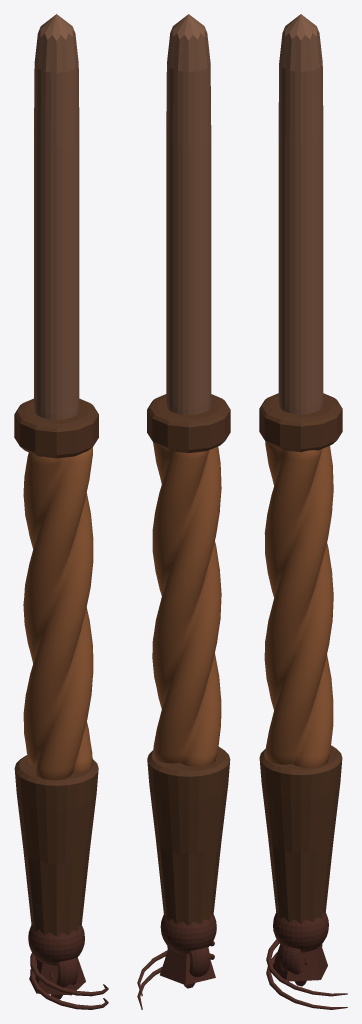
The model's file is Wand 819.glb.
3 renders of one model, left to right at view 1: azimuth 30°, elevation 25°; view 2: azimuth 210°, elevation 25°; view 3: azimuth 330°, elevation 25°, orthographic.
Parts seen in each view (by area): view 1: GeneratedWand, Pommel_4, Pommel_9, Pommel_2, Pommel_10; view 2: GeneratedWand, Pommel_4, Pommel_9, Pommel_2; view 3: GeneratedWand, Pommel_4, Pommel_9, Pommel_2, Pommel_10.
Boxes of the visible parts, left/top/right/bottom form: GeneratedWand: left=14, top=14, right=108, bottom=996; Pommel_4: left=28, top=925, right=84, bottom=965; Pommel_9: left=29, top=957, right=85, bottom=995; Pommel_2: left=56, top=958, right=78, bottom=987; Pommel_10: left=30, top=959, right=108, bottom=1009; GeneratedWand: left=137, top=14, right=230, bottom=996; Pommel_4: left=160, top=914, right=216, bottom=953; Pommel_9: left=160, top=947, right=215, bottom=985; Pommel_2: left=167, top=946, right=209, bottom=976; GeneratedWand: left=259, top=14, right=347, bottom=996; Pommel_4: left=273, top=912, right=328, bottom=952; Pommel_9: left=273, top=944, right=327, bottom=981; Pommel_2: left=279, top=944, right=322, bottom=974; Pommel_10: left=266, top=952, right=347, bottom=1009.
Size of the model in its own units: 0.0457 by 0.5158 by 0.0401.
